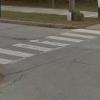Crosswalk: (5, 19, 90, 61)
